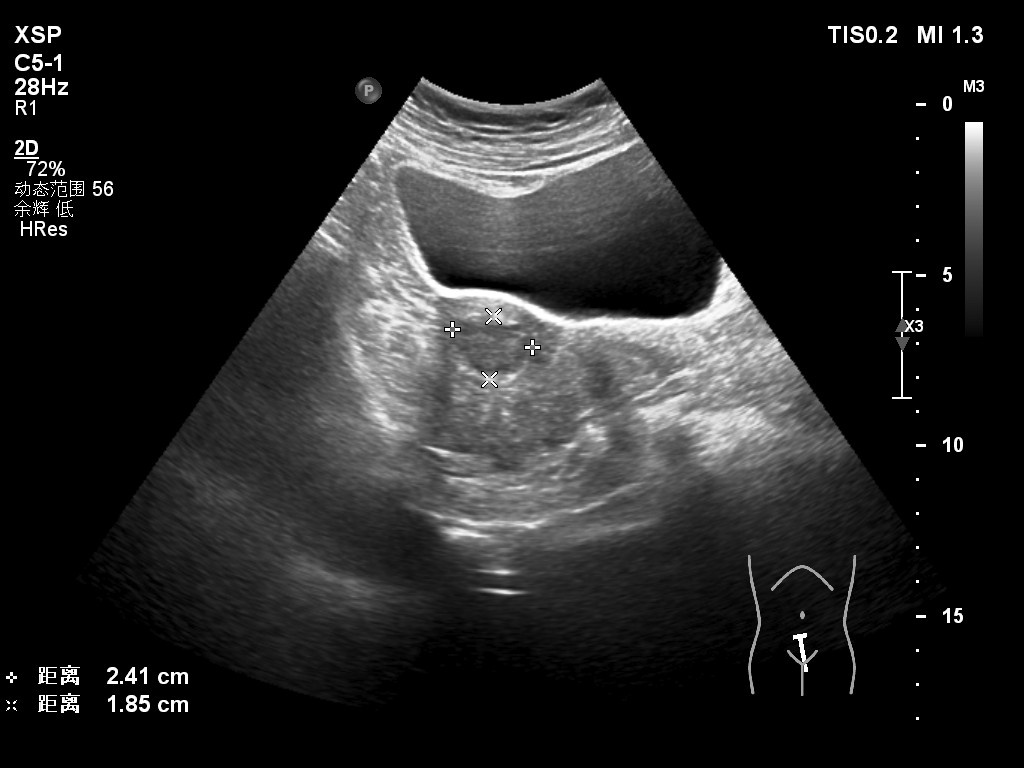肌瘤: (461, 316, 536, 375)
